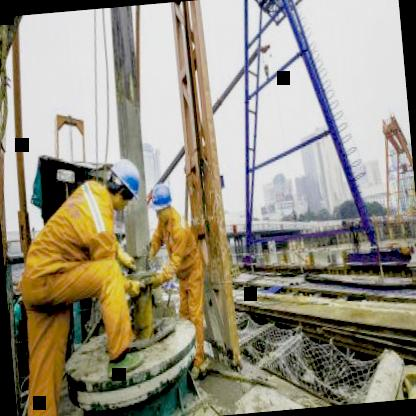helmet: (105, 158, 144, 214), (148, 178, 178, 228)
